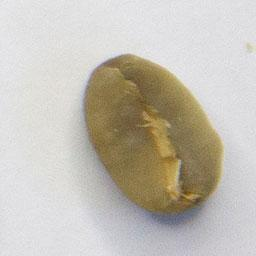premium: (81, 51, 227, 218)
